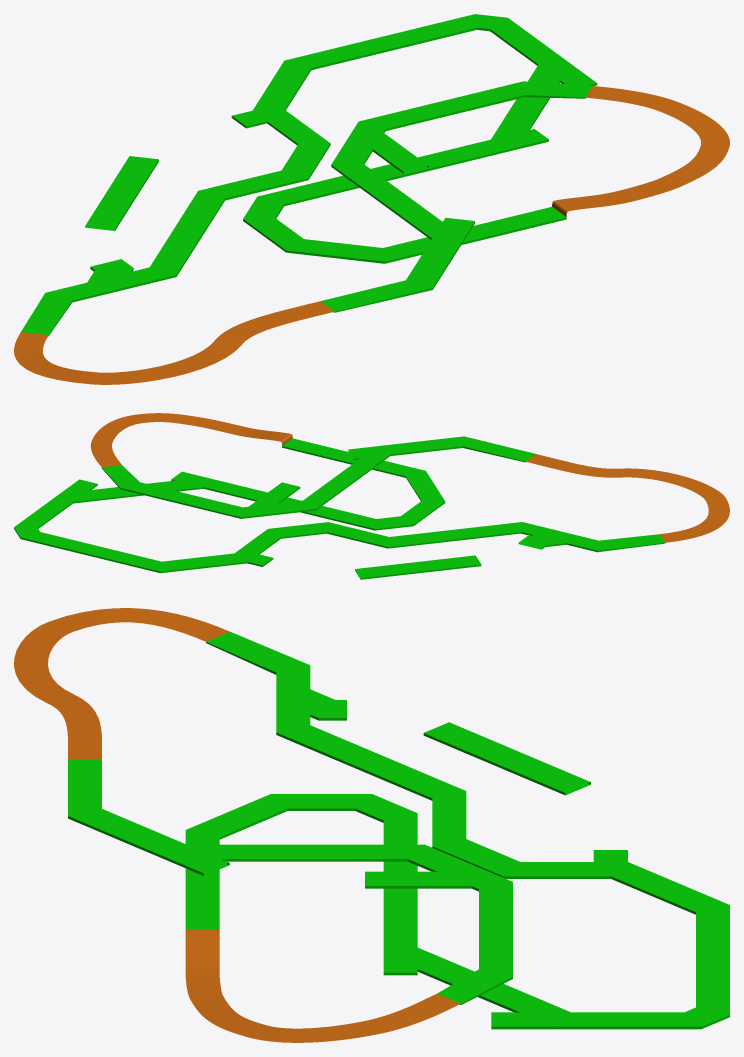
File: testNew.obj
3 views of the same model, one above another, from view 1: azimuth 30°, elevation 25°; view 2: azimuth 150°, elevation 25°; view 3: azimuth 270°, elevation 25° (orthographic). The views are drawn at different scales.
Visible parts, largest first — view 1: Track, Ribbons; view 2: Track, Ribbons; view 3: Track, Ribbons.
Boxes of the visible parts, x1,y1,x2,y2 form: Track: [21, 14, 597, 336]; Ribbons: [14, 86, 729, 384]; Track: [14, 436, 665, 579]; Ribbons: [90, 413, 729, 542]; Track: [68, 631, 729, 1029]; Ribbons: [14, 608, 460, 1042].
Size of the model in its own units: 734 by 12.03 by 505.
